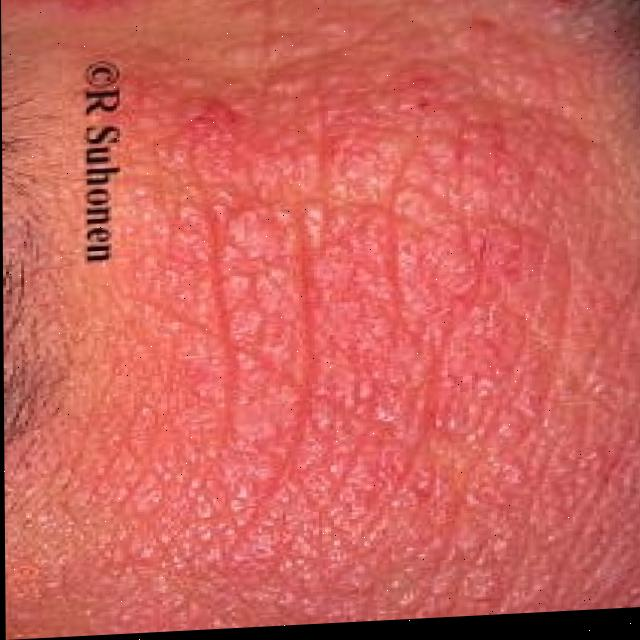Eczema: (185, 67, 602, 590)
